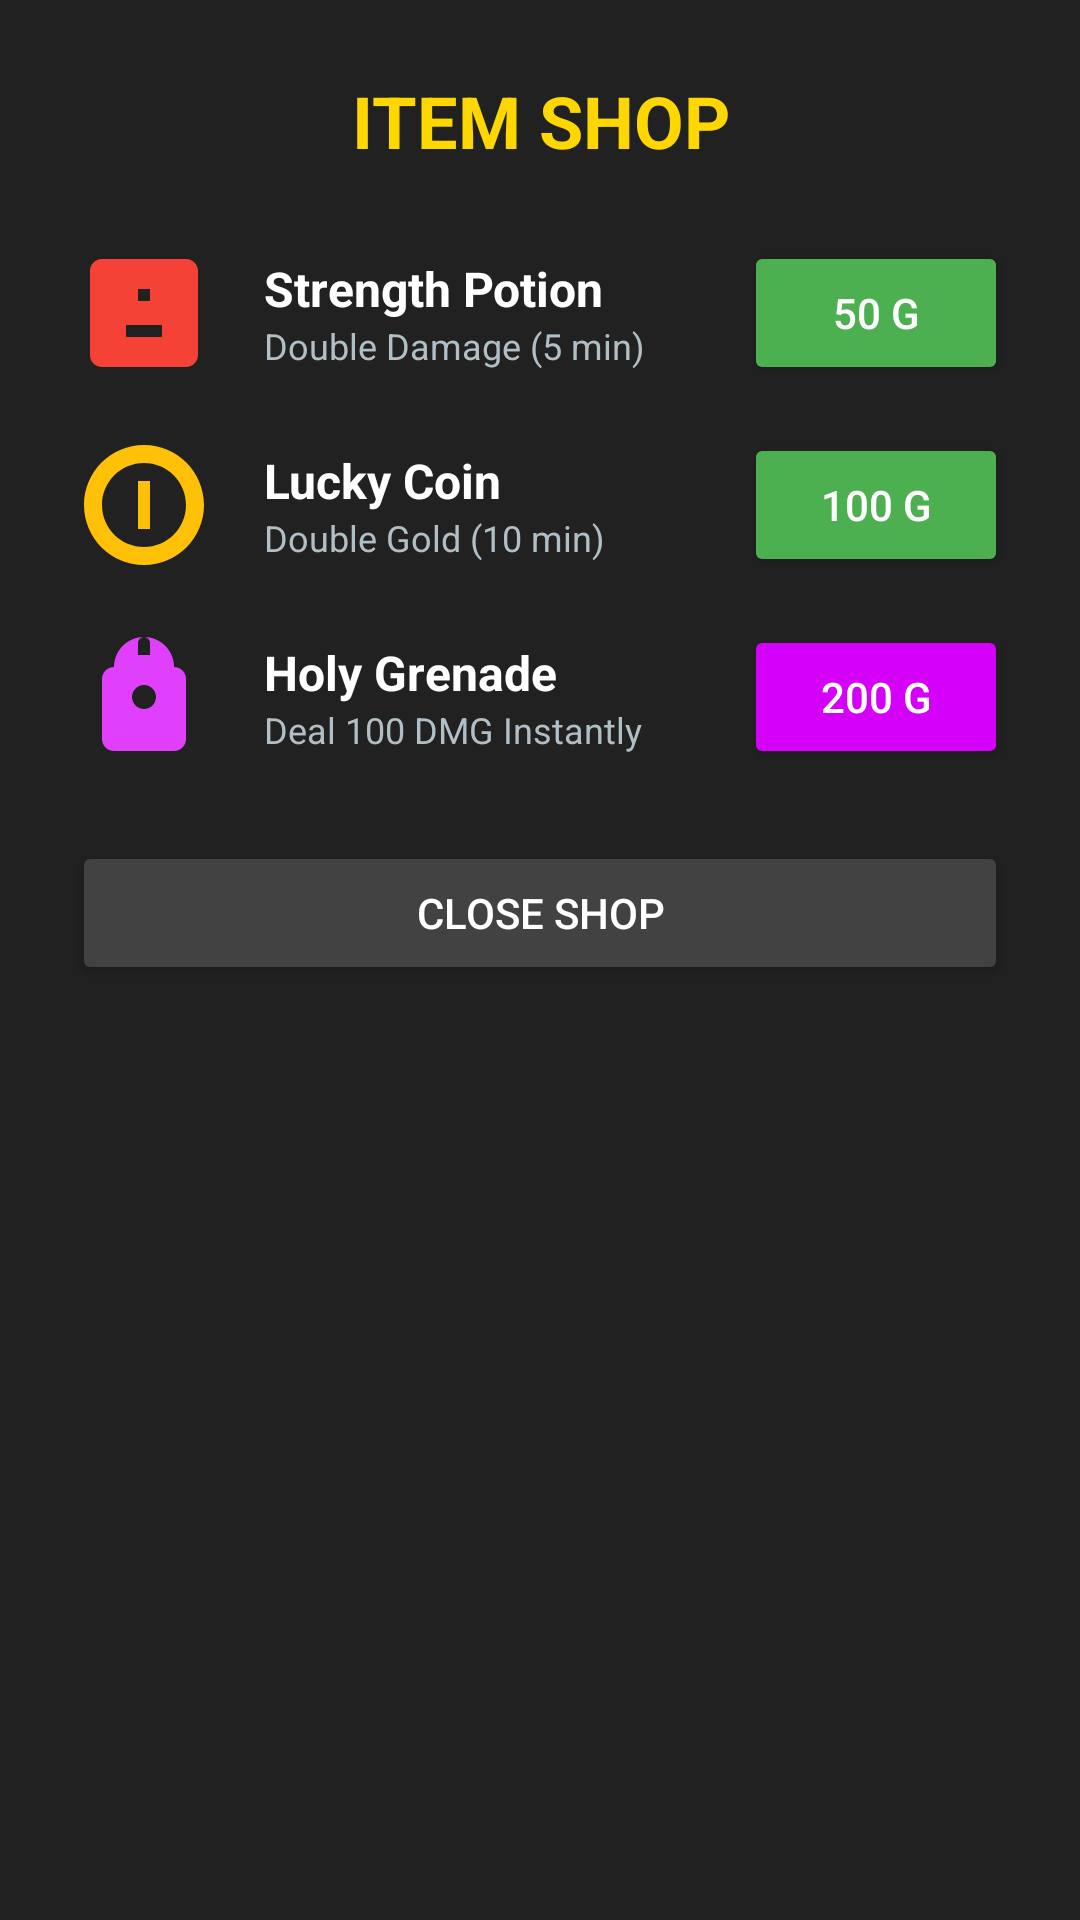

Where to tap for icons on this 1080px x 1920px app screen, as point (x, y):
shop coin: point (144, 505)
shop grenade: point (144, 694)
